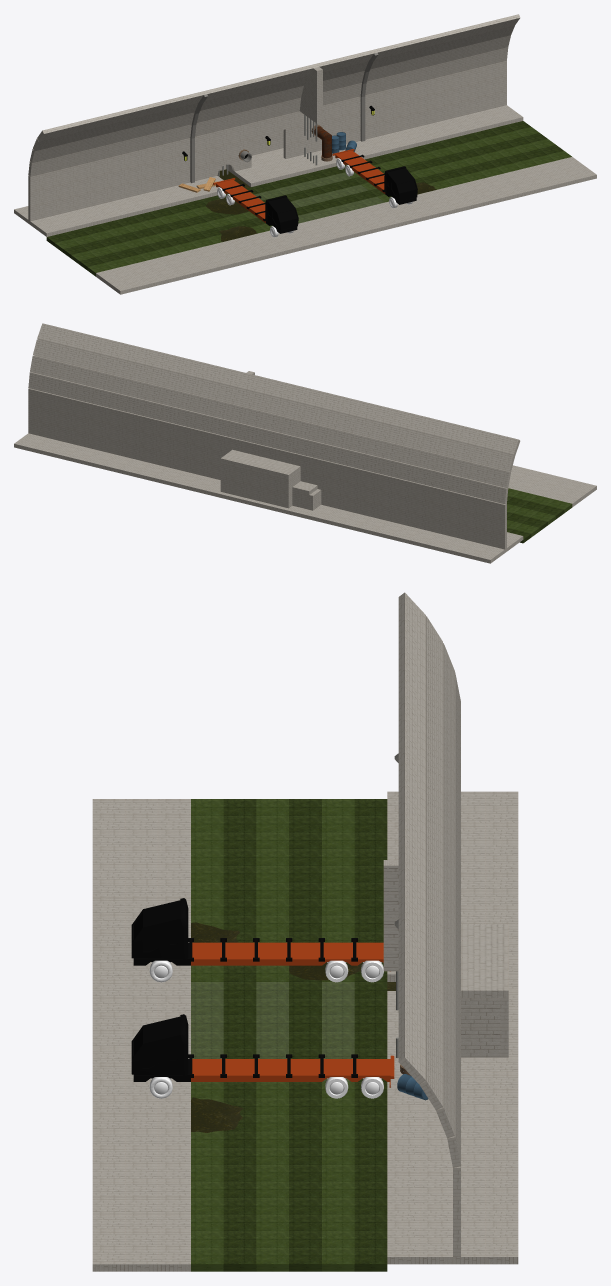
Rendered from Sewer189.fbx.
3 views of the same model, one above another, from view 1: azimuth 30°, elevation 25°; view 2: azimuth 150°, elevation 25°; view 3: azimuth 270°, elevation 25° (orthographic). The views are drawn at different scales.
Parts seen in each view (by area): view 1: StreetRoad, FieldRoad, Object045, Truck(Nexus)001, Truck(Nexus), Object048, Object043, Sphere001, GiantPipe, Sphere002; view 2: StreetRoad, FieldRoad, Object045; view 3: FieldRoad, StreetRoad, Object045, Truck(Nexus), Truck(Nexus)001, Object048, Sphere003.
Boxes of the visible parts, left/top/right/bottom form: StreetRoad: left=14, top=14, right=523, bottom=236; FieldRoad: left=46, top=121, right=571, bottom=276; Object045: left=96, top=157, right=596, bottom=294; Truck(Nexus)001: left=336, top=154, right=417, bottom=208; Truck(Nexus): left=217, top=183, right=298, bottom=237; Object048: left=299, top=67, right=322, bottom=123; Object043: left=190, top=52, right=378, bottom=183; Sphere001: left=206, top=198, right=249, bottom=214; GiantPipe: left=311, top=124, right=332, bottom=161; Sphere002: left=219, top=226, right=257, bottom=241; StreetRoad: left=14, top=323, right=523, bottom=563; FieldRoad: left=507, top=488, right=572, bottom=543; Object045: left=508, top=465, right=596, bottom=507; FieldRoad: left=191, top=799, right=387, bottom=1271; StreetRoad: left=387, top=592, right=518, bottom=1264; Object045: left=92, top=799, right=190, bottom=1271; Truck(Nexus): left=131, top=898, right=383, bottom=982; Truck(Nexus)001: left=131, top=1014, right=383, bottom=1098; Object048: left=383, top=860, right=398, bottom=971; Sphere003: left=191, top=1097, right=243, bottom=1132.
Size of the model in its own units: 3360 by 722 by 1300.
